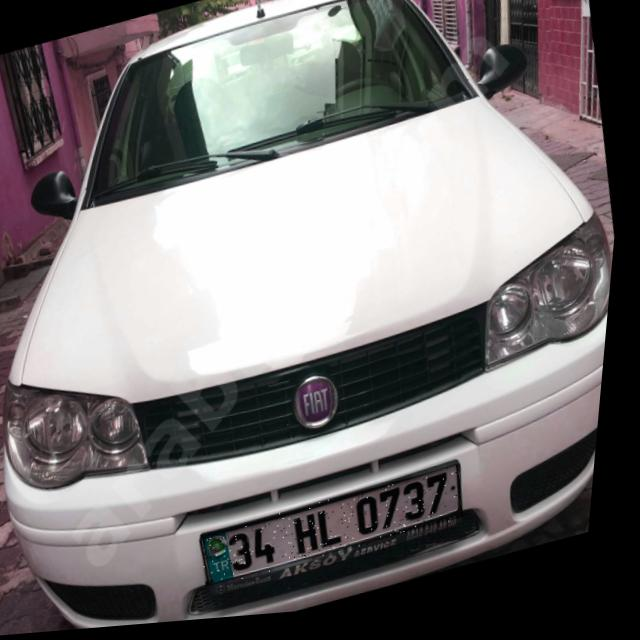license_plate: (207, 473, 478, 594)
